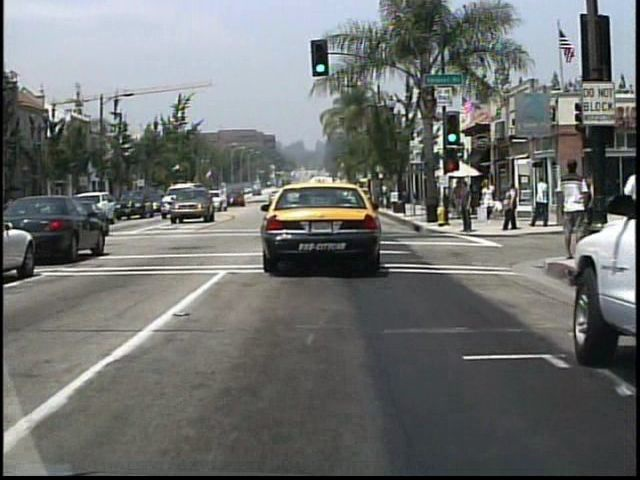person: (556, 157, 593, 264), (458, 182, 477, 237), (505, 182, 523, 231), (451, 180, 470, 226), (535, 175, 551, 228), (483, 180, 499, 224)
